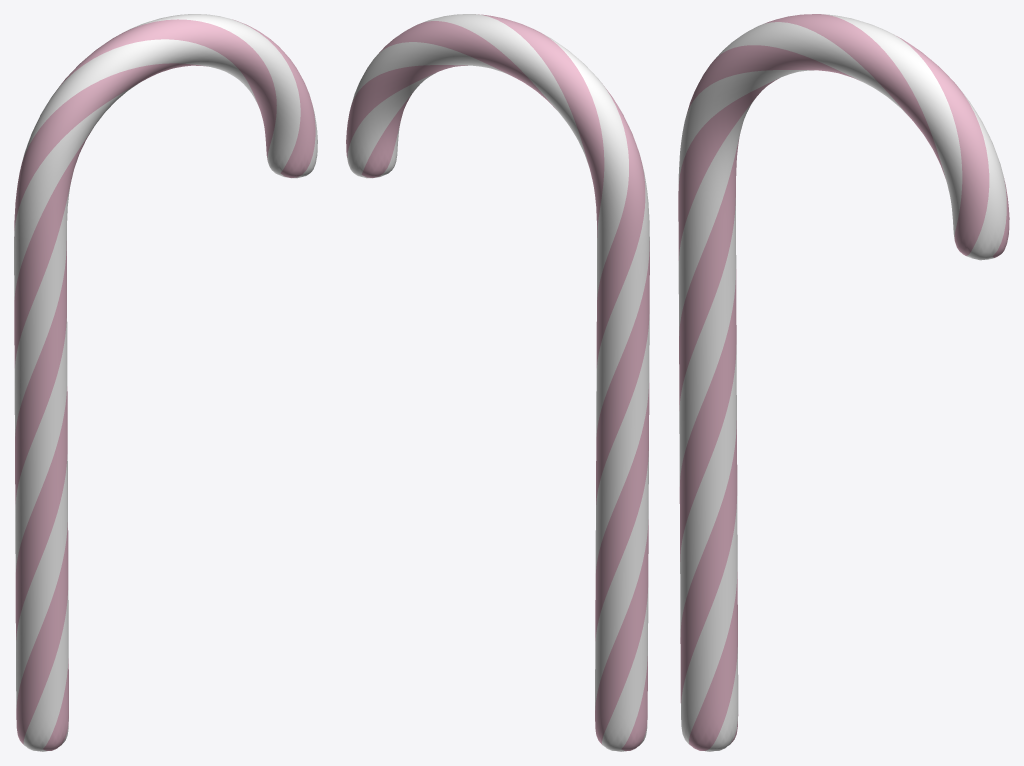
The model's file is pinkcandycane.gltf.
3 renders of one model, left to right at view 1: azimuth 30°, elevation 25°; view 2: azimuth 150°, elevation 25°; view 3: azimuth 330°, elevation 25°, orthographic. The views are drawn at different scales.
Parts seen in each view (by area): view 1: Circle.001; view 2: Circle.001; view 3: Circle.001.
Boxes of the visible parts, x1=… form: Circle.001: x1=14, y1=14, x2=317, y2=751; Circle.001: x1=346, y1=14, x2=649, y2=751; Circle.001: x1=678, y1=14, x2=1009, y2=751.
Bounding box in the file's own units: 2.34 × 5.25 × 0.3596.
